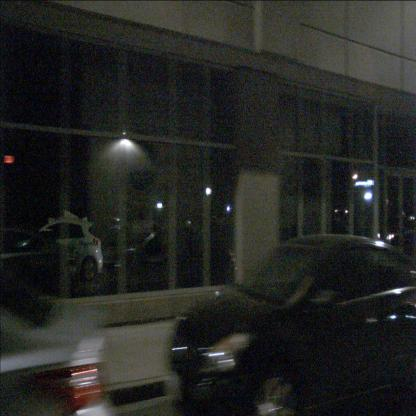vehicle-car: (168, 233, 416, 415), (121, 225, 231, 291), (13, 218, 103, 282), (0, 226, 62, 297), (377, 216, 416, 254)
